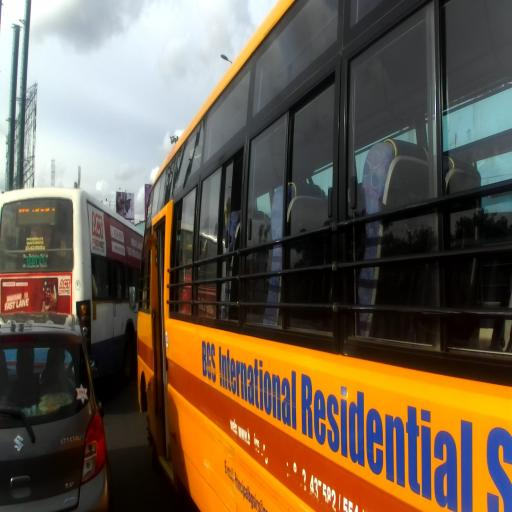street_light_0: (220, 54, 233, 64)
